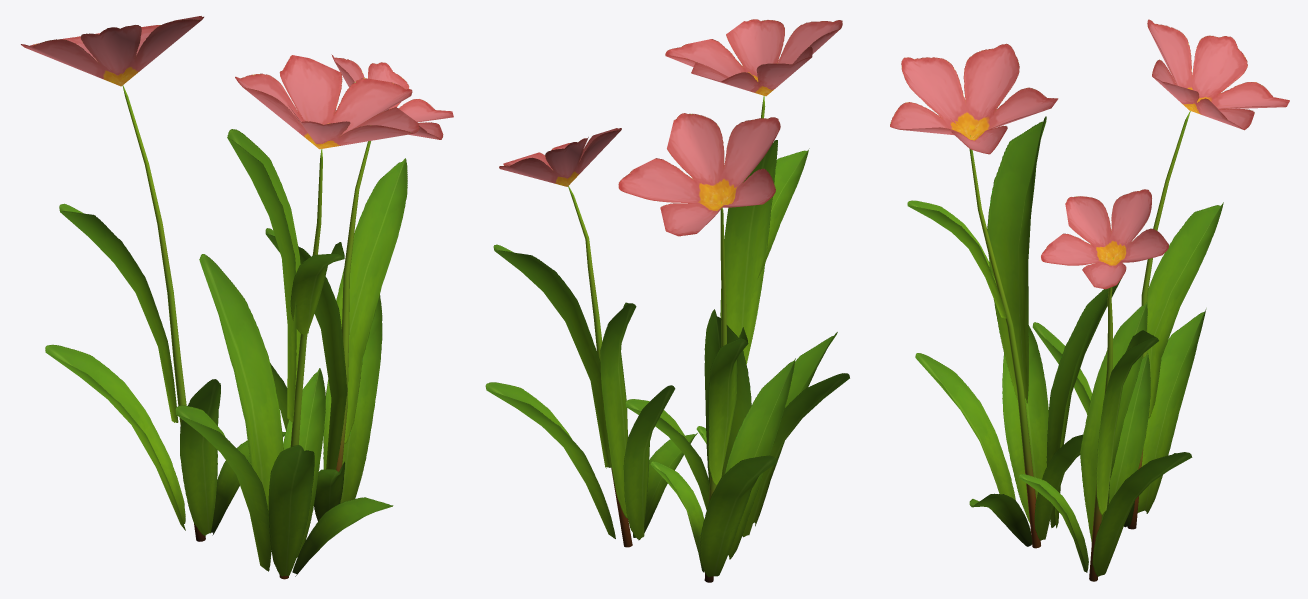
File: Flower_3_Group.gltf
The picture shows the model from 3 angles, left to right: view 1: azimuth 30°, elevation 25°; view 2: azimuth 150°, elevation 25°; view 3: azimuth 270°, elevation 25°; orthographic projection. The views are drawn at different scales.
Visible parts, largest first — view 1: Flower_3_Group; view 2: Flower_3_Group; view 3: Flower_3_Group.
Boxes of the visible parts, x1,y1,x2,y2 form: Flower_3_Group: (21,16,453,579); Flower_3_Group: (485,19,849,582); Flower_3_Group: (890,19,1289,581).
Bounding box in the file's own units: 1.49 × 2.05 × 1.59.
Materials: 2 (2 with a texture image).
